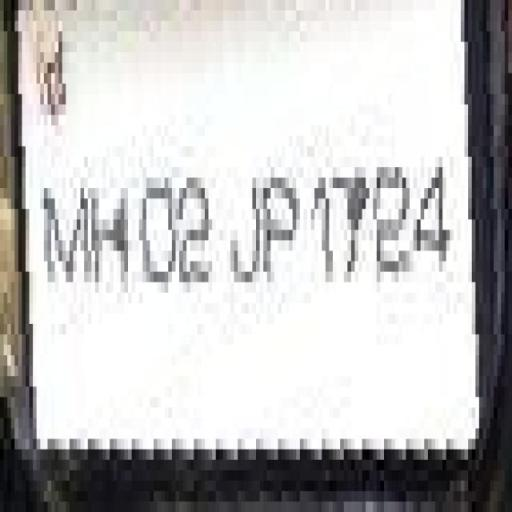number plate: (7, 21, 479, 460)
